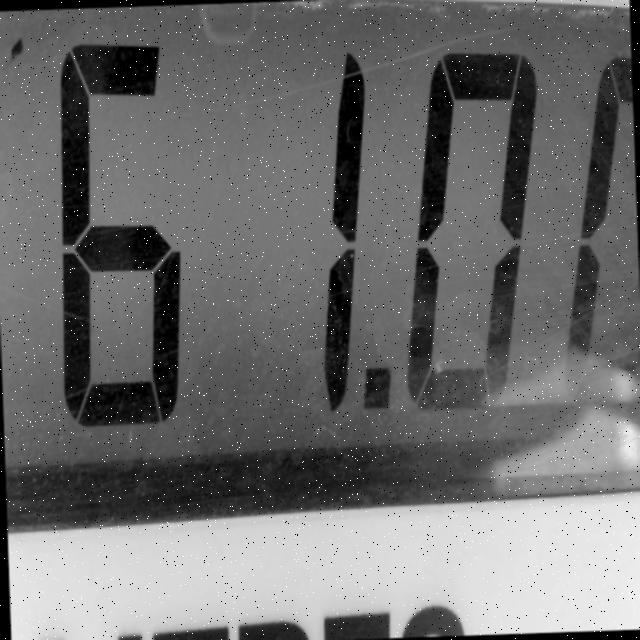.: (354, 335, 403, 446)
0: (389, 34, 550, 440)
1: (288, 44, 378, 432)
6: (20, 15, 212, 443)
